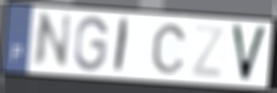C: (151, 22, 188, 76)
G: (72, 15, 110, 74)
I: (112, 16, 132, 76)
N: (30, 12, 74, 71)
V: (230, 23, 270, 85)
Z: (189, 23, 227, 81)
